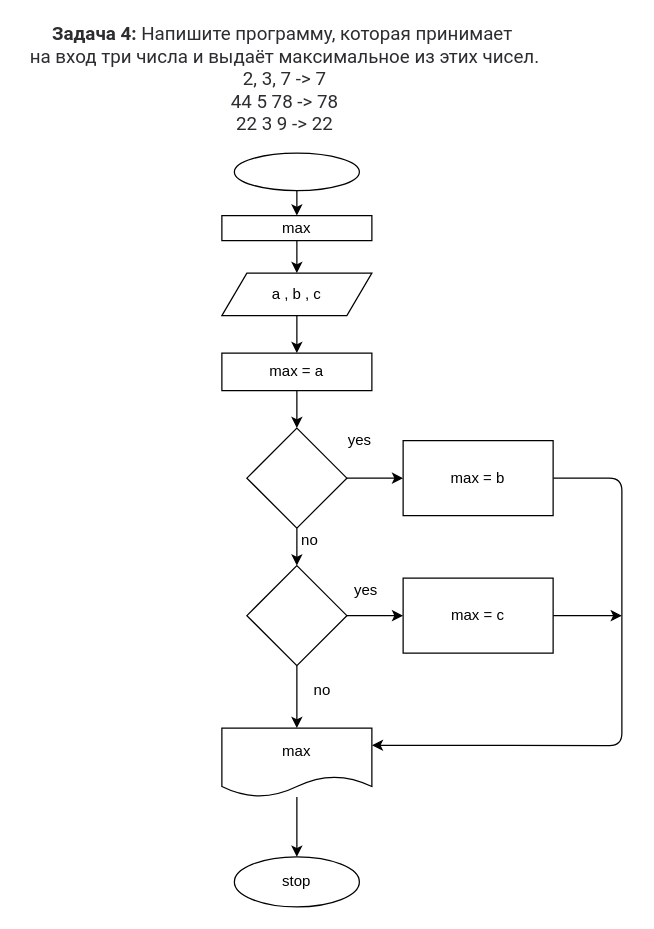
Some shapes in this 654 by 929 pixel diagram are drawn without their labels. Each missing label, with the centre of its shape:
max < b: (296,477)
max < c: (296,615)
start: (296,171)
